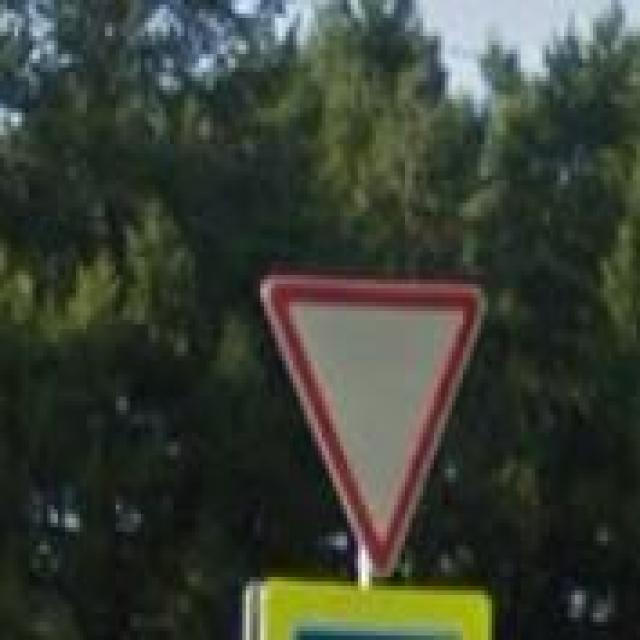traffic_sign: (260, 275, 484, 577)
